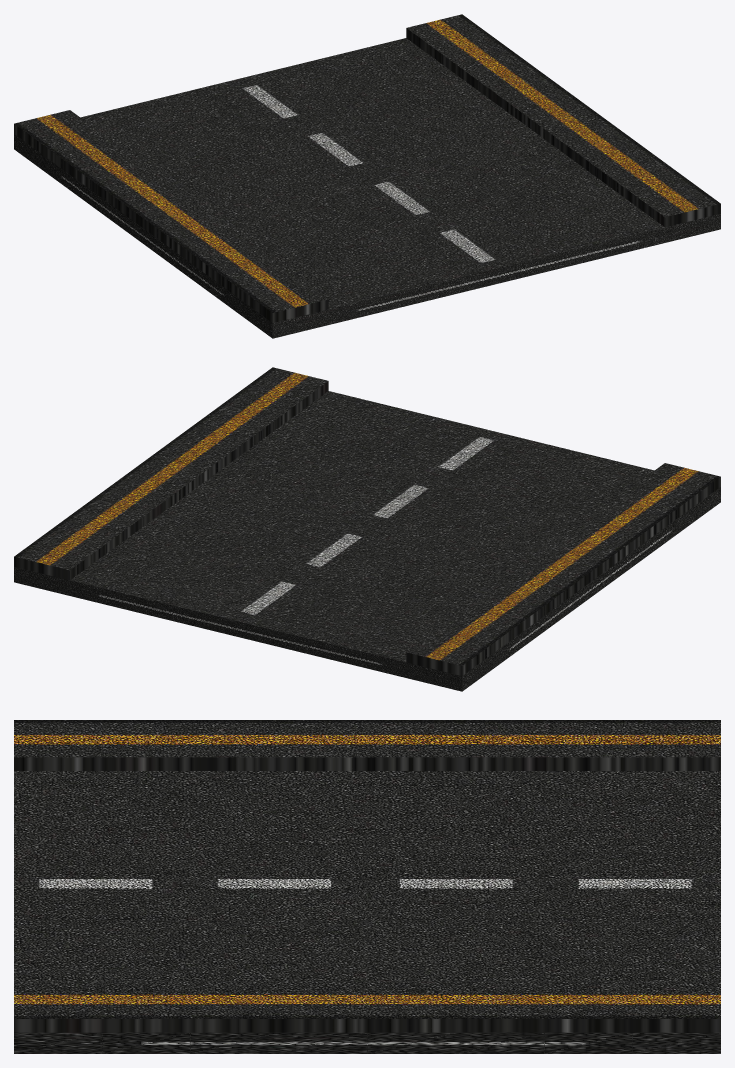
File: Road_Straight.obj
3 renders of one model, top to bottom at view 1: azimuth 30°, elevation 25°; view 2: azimuth 150°, elevation 25°; view 3: azimuth 270°, elevation 25°, orthographic. The views are drawn at different scales.
Parts seen in each view (by area): view 1: Cube; view 2: Cube; view 3: Cube.
Part boxes in pixels (x1=…): Cube: x1=14, y1=14, x2=720, y2=338; Cube: x1=14, y1=367, x2=720, y2=691; Cube: x1=14, y1=720, x2=720, y2=1053.
Size of the model in its own units: 60 by 3.28 by 60.
